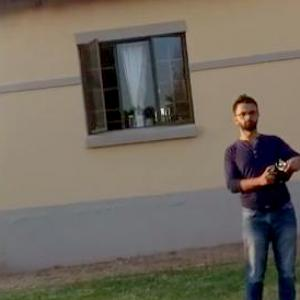follow: (217, 86, 299, 299)
